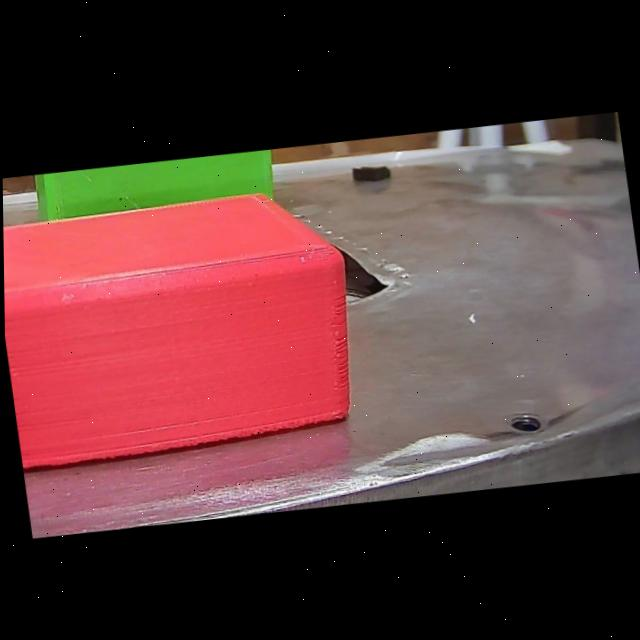greenBox: (21, 145, 278, 232)
redBox: (2, 180, 378, 484)
